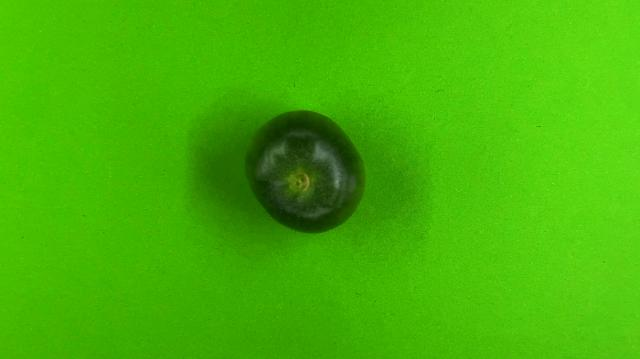Fruit Maturation: (241, 107, 367, 236), (243, 108, 369, 236)
